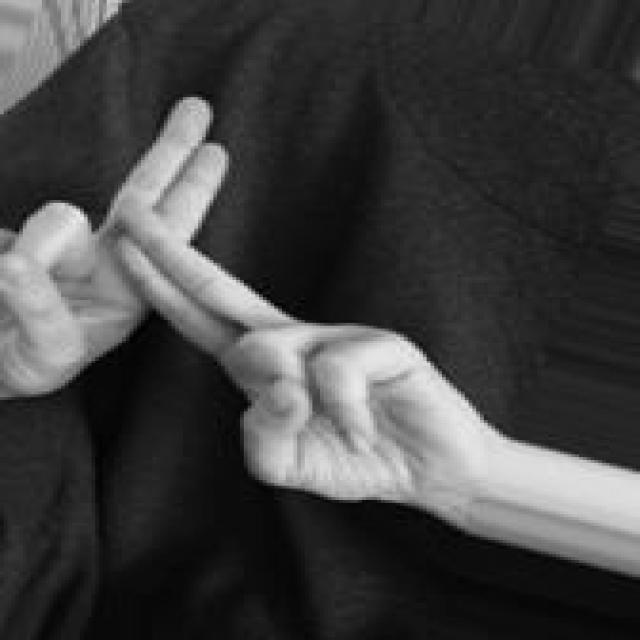K: (3, 86, 483, 513)
